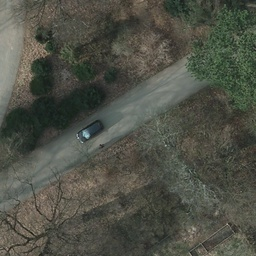car: (77, 120, 102, 141)
